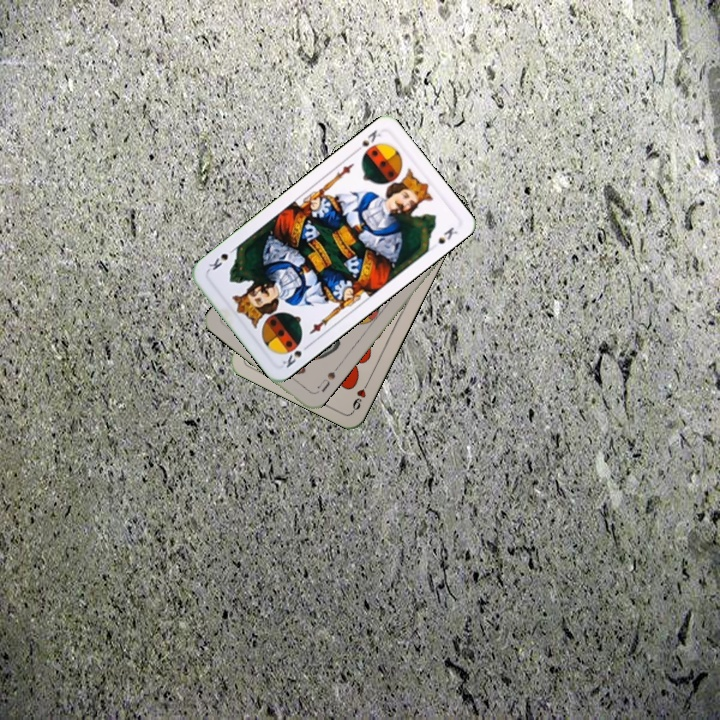H9: (348, 376, 372, 414)
SK: (278, 340, 313, 370), (350, 126, 383, 156)
SU: (313, 367, 338, 395)
